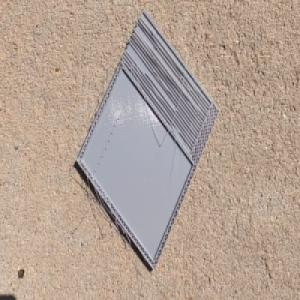PlasticPart: (75, 8, 221, 273)
